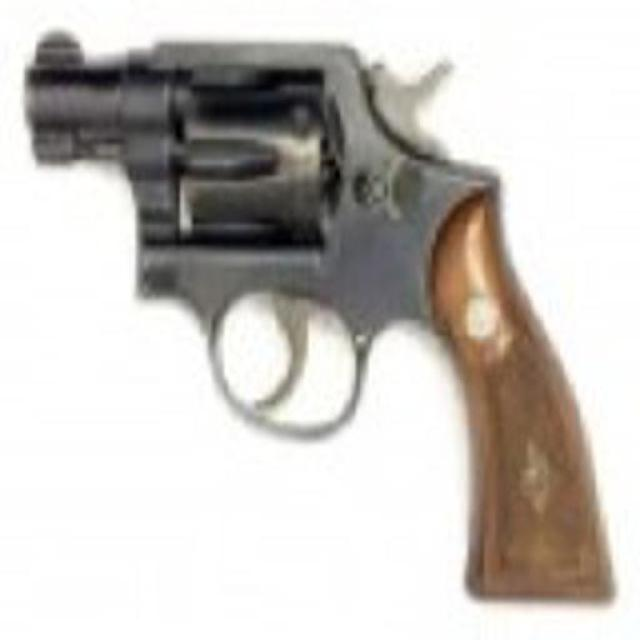pistol: (27, 36, 615, 602)
